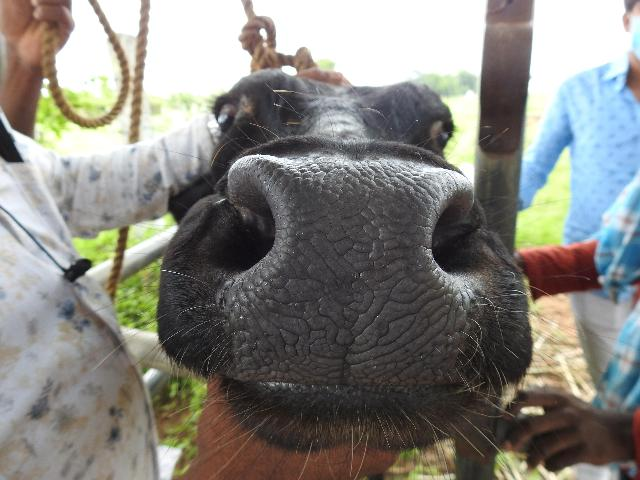Muzzle: (226, 156, 480, 384)
